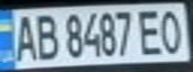4: (81, 9, 103, 57)
7: (115, 7, 139, 56)
8: (60, 10, 84, 60), (97, 8, 118, 57)
A: (9, 11, 39, 63)
B: (33, 10, 60, 61)
E: (136, 6, 166, 56)
O: (154, 6, 190, 55)
